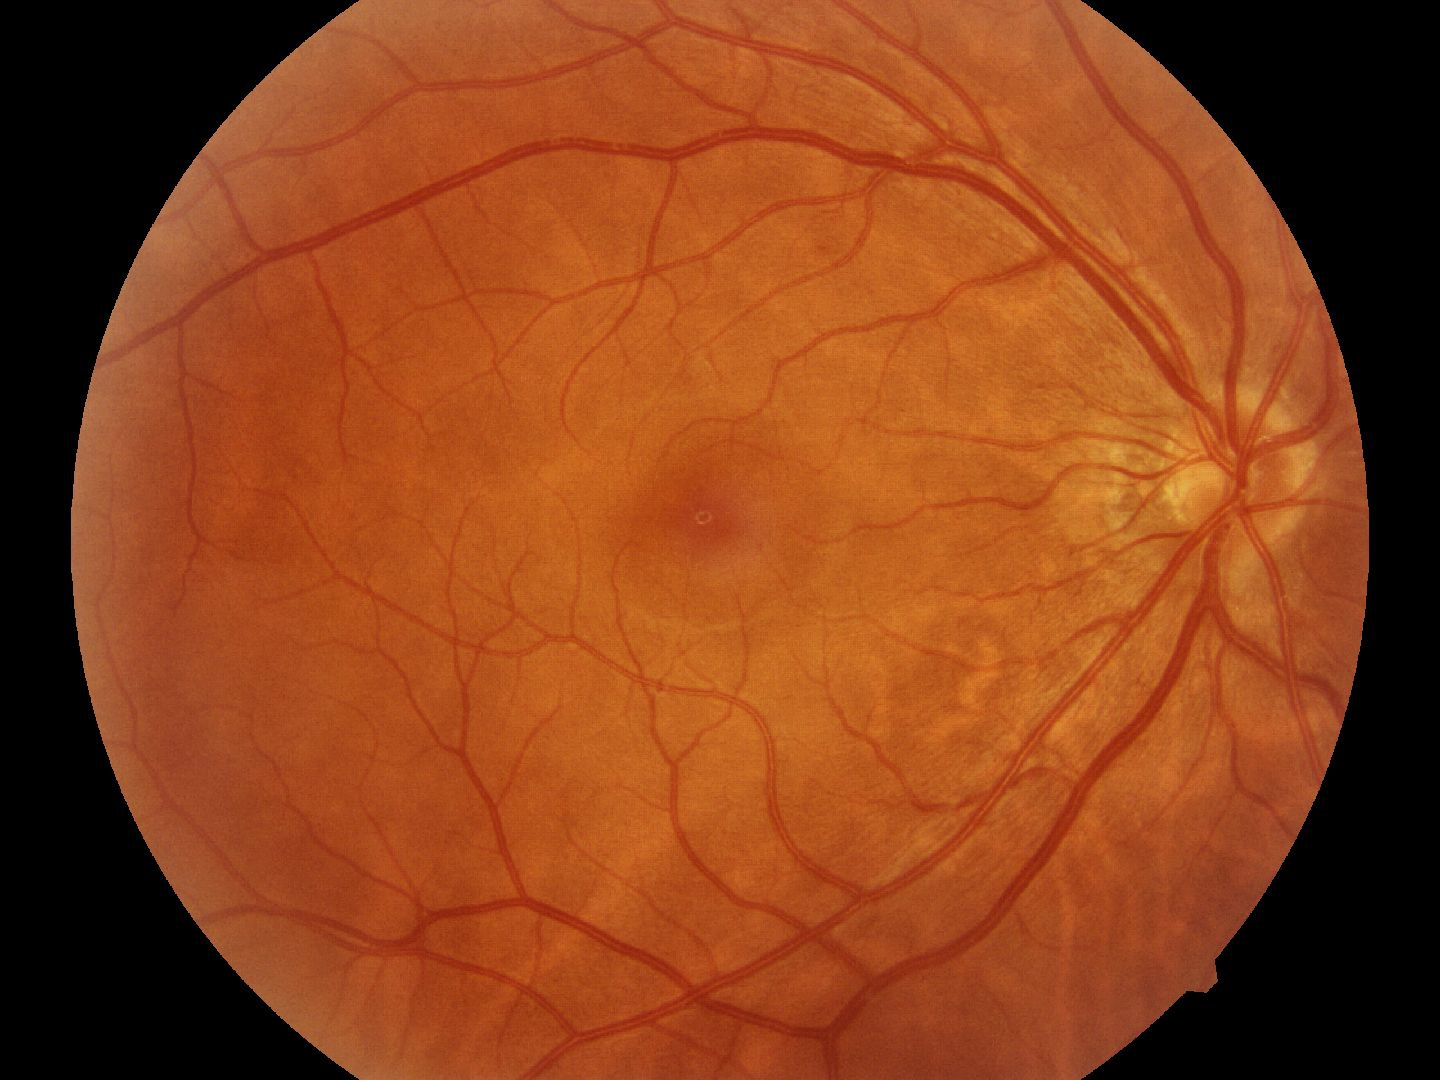Arterioles: (214, 457, 530, 731)
Hemorrhages: (649, 459, 766, 575)
Optic-Disc: (1175, 386, 1318, 538)
Venules: (444, 793, 980, 1048), (654, 25, 1128, 306)
